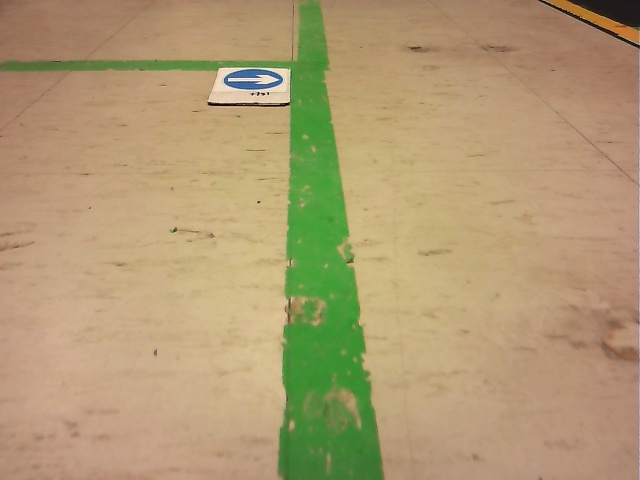TURN RIGHT: (224, 69, 283, 89)
